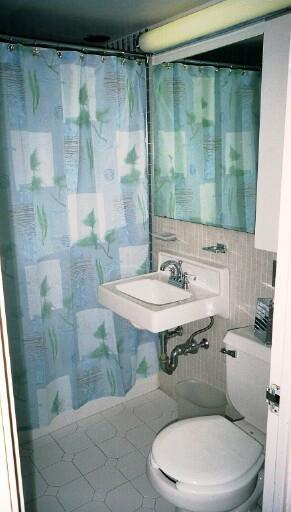Ducha: (7, 45, 158, 393)
Lavamanos: (97, 252, 233, 333)
Sanitario: (148, 318, 264, 504)
